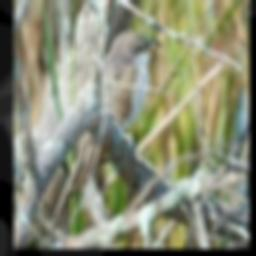Cuckoo: (61, 31, 163, 202)
